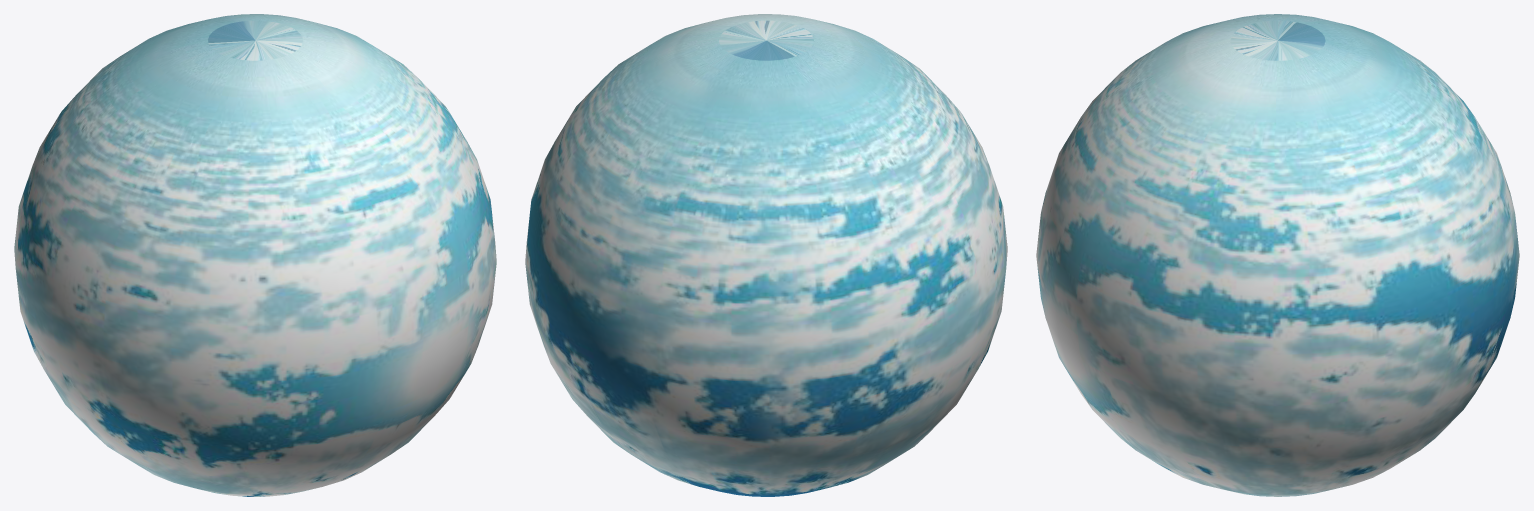
File: sky.obj
3 renders of one model, left to right at view 1: azimuth 30°, elevation 25°; view 2: azimuth 150°, elevation 25°; view 3: azimuth 270°, elevation 25°, orthographic.
Parts seen in each view (by area): view 1: Sphere; view 2: Sphere; view 3: Sphere.
Boxes of the visible parts, bbox=[...] form: Sphere: bbox=[14, 14, 496, 496]; Sphere: bbox=[525, 14, 1007, 496]; Sphere: bbox=[1036, 14, 1519, 496].
Size of the model in its own units: 790 by 775 by 790.
1 material, 1 textured.
